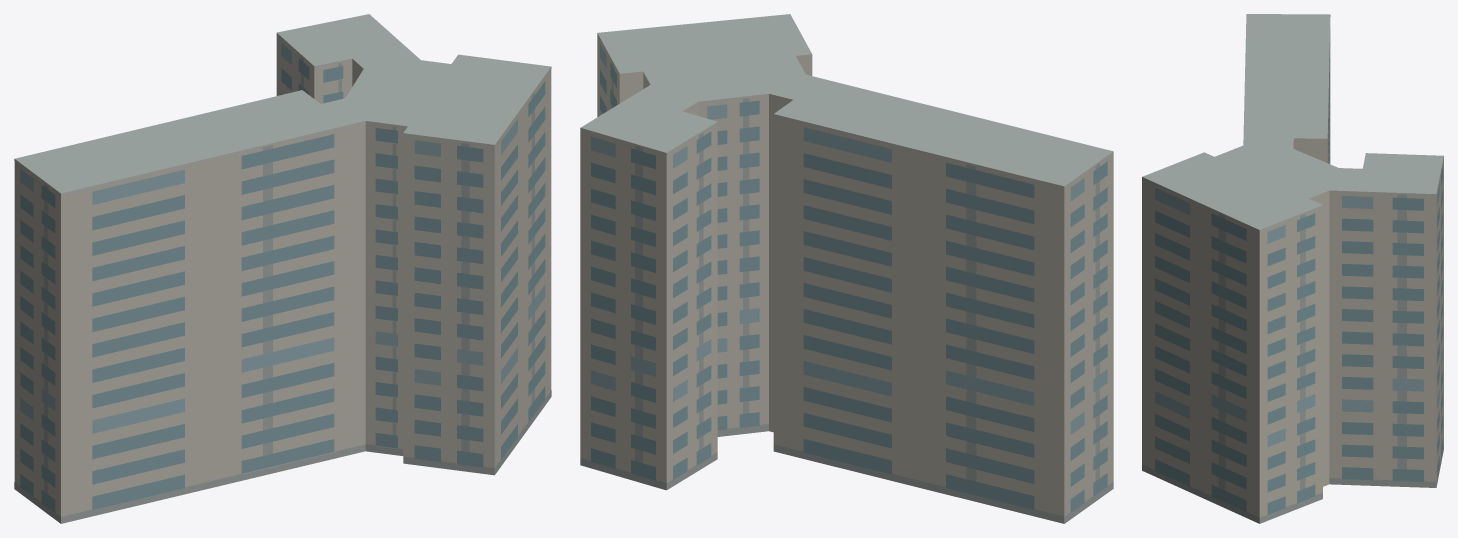
The model's file is residential-572ecafb-a30e-4454-85b1-c12d0dff0f06.glb.
3 renders of one model, left to right at view 1: azimuth 30°, elevation 25°; view 2: azimuth 150°, elevation 25°; view 3: azimuth 270°, elevation 25°, orthographic. The views are drawn at different scales.
Visible parts, largest first — view 1: residential-572ecafb-a30e-4454-85b1-c12d0dff0f06.tmp; view 2: residential-572ecafb-a30e-4454-85b1-c12d0dff0f06.tmp; view 3: residential-572ecafb-a30e-4454-85b1-c12d0dff0f06.tmp.
Boxes of the visible parts, x1,y1,x2,y2 form: residential-572ecafb-a30e-4454-85b1-c12d0dff0f06.tmp: (14,14,551,523); residential-572ecafb-a30e-4454-85b1-c12d0dff0f06.tmp: (580,14,1113,523); residential-572ecafb-a30e-4454-85b1-c12d0dff0f06.tmp: (1142,14,1443,523).
Size of the model in its own units: 59.94 by 38 by 35.38.
